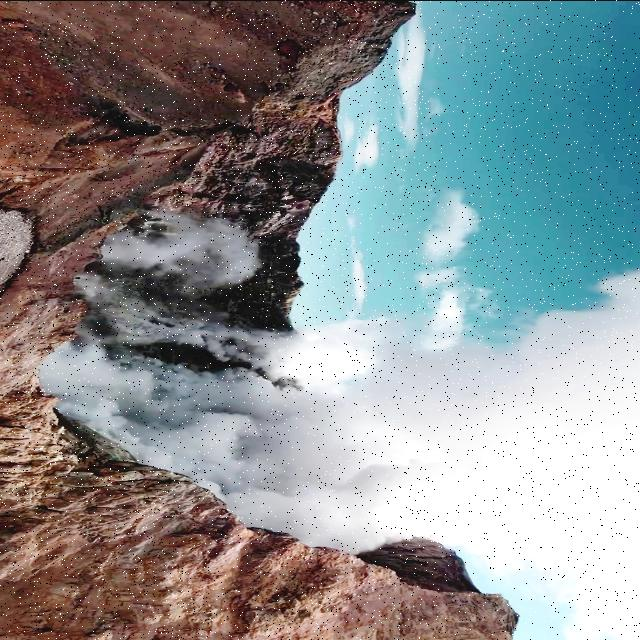asap: (16, 269, 640, 629), (260, 261, 638, 492), (215, 451, 635, 582), (22, 329, 271, 508), (70, 189, 274, 296), (247, 308, 431, 392)
